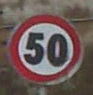limite 50: (7, 11, 83, 85)
